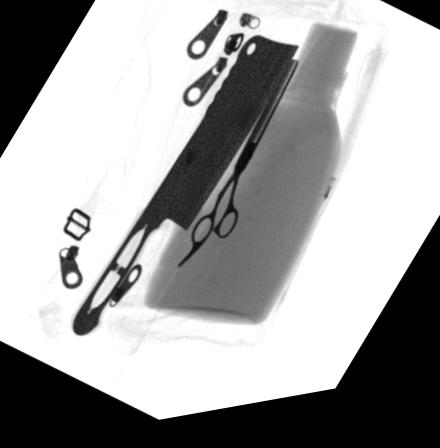Knife: (70, 42, 301, 340)
Scissors: (176, 68, 300, 273)
